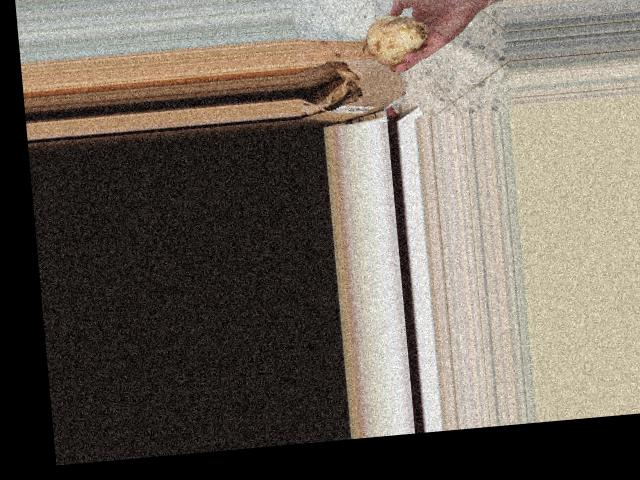onion: (360, 7, 436, 70)
